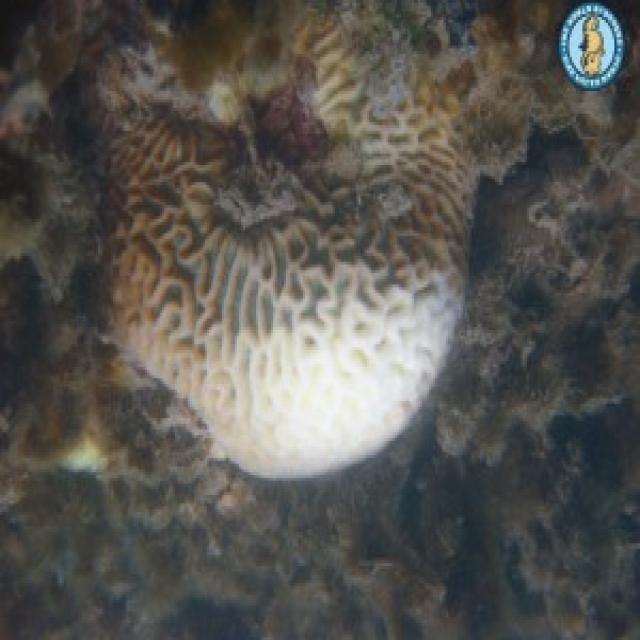Bleached: (132, 248, 468, 481)
Healthy: (112, 1, 473, 236)
